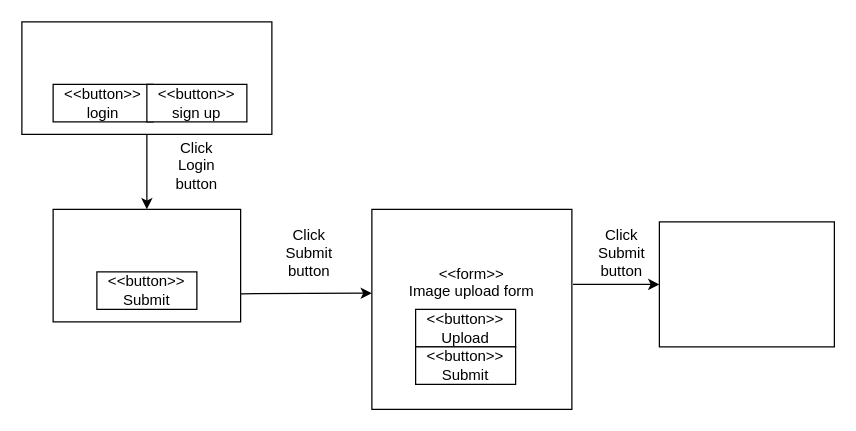
Image size: 856x431. Some labels were removed from this diagram. The box of each missing label's shape, as (x1, y1, x2, y2) in pixels:
<<form>> Login form: (52, 208, 241, 322)
<<report>> Image prediction result: (658, 221, 834, 347)
Login Page: (21, 21, 272, 134)
